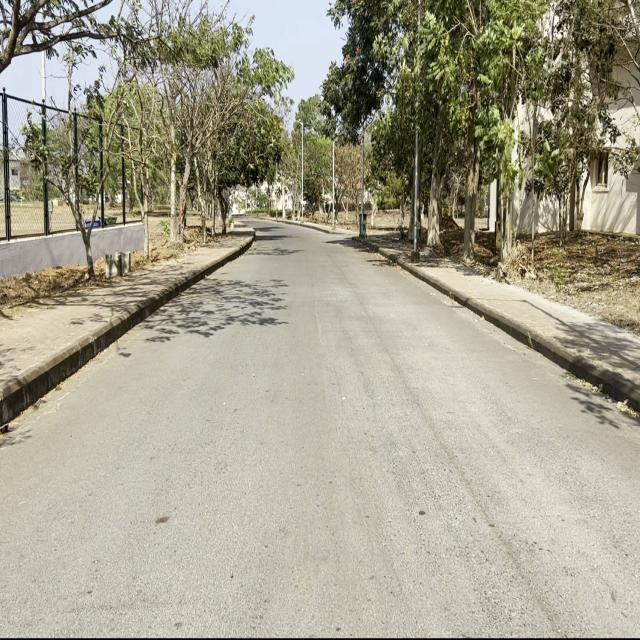Road: (4, 222, 637, 629)
